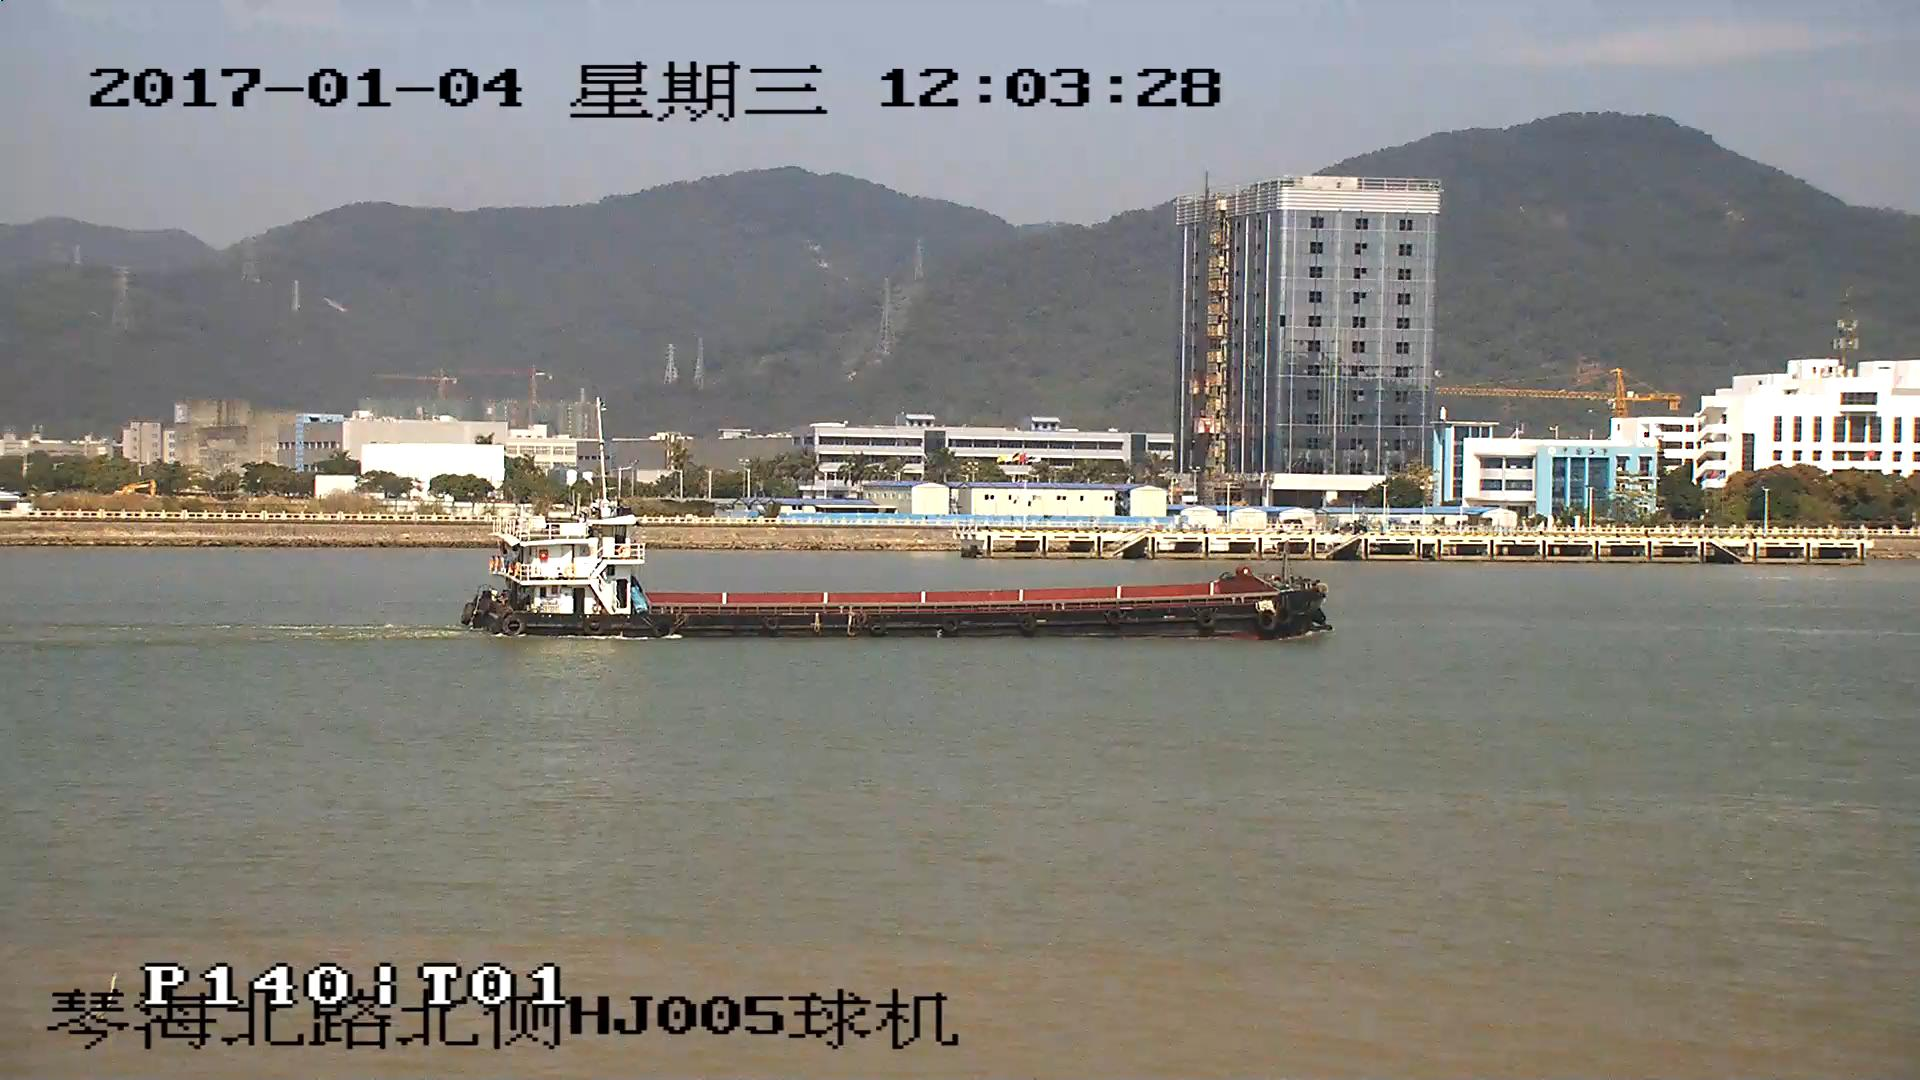general cargo ship: (460, 515, 1336, 642)
